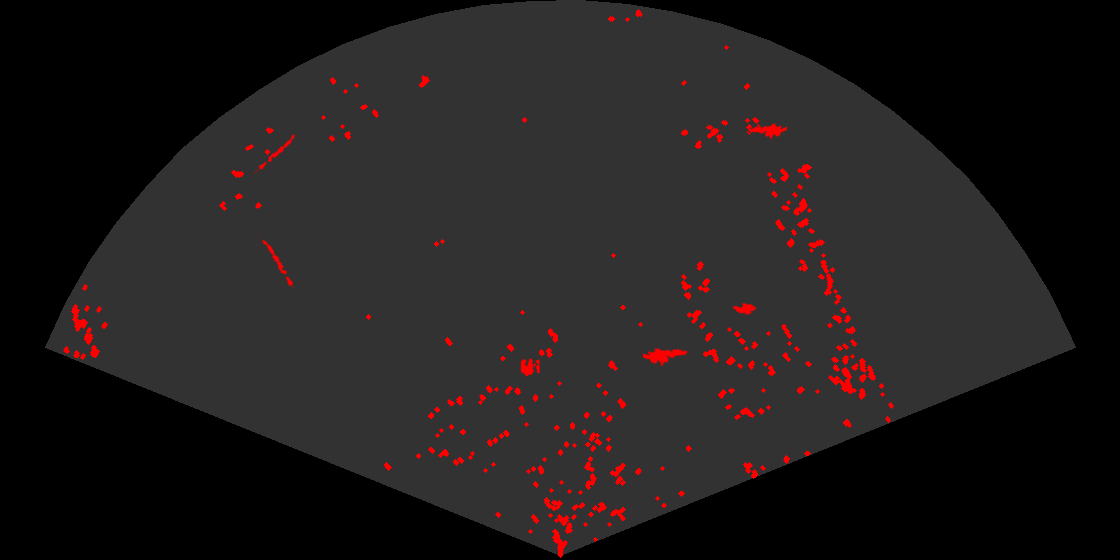AUV: (731, 302, 758, 316)
ball: (519, 357, 541, 378)
chain: (259, 232, 296, 288), (254, 133, 297, 176)
frogman: (643, 346, 688, 368), (747, 122, 787, 141)
